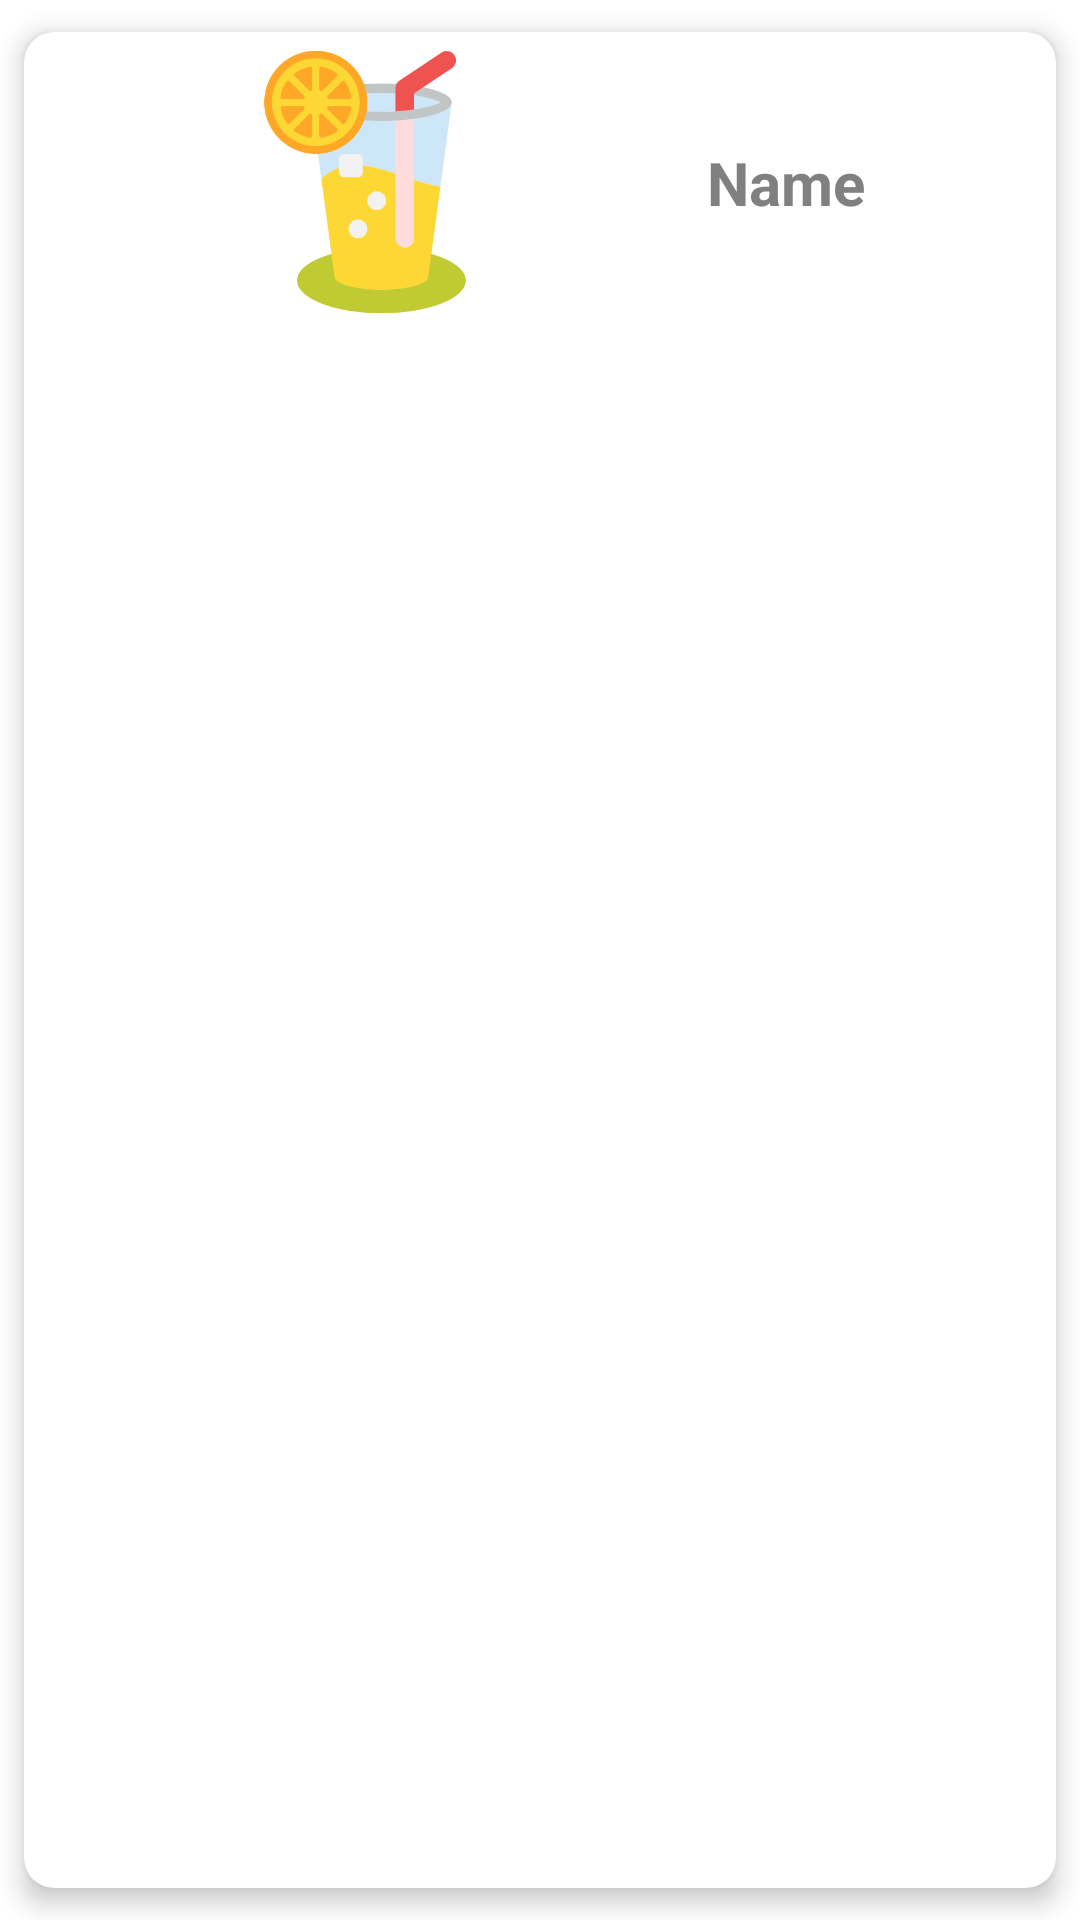

Named icons in this screenshot (1080×1920) and their centers, [x,y]:
juice: [365,182]
